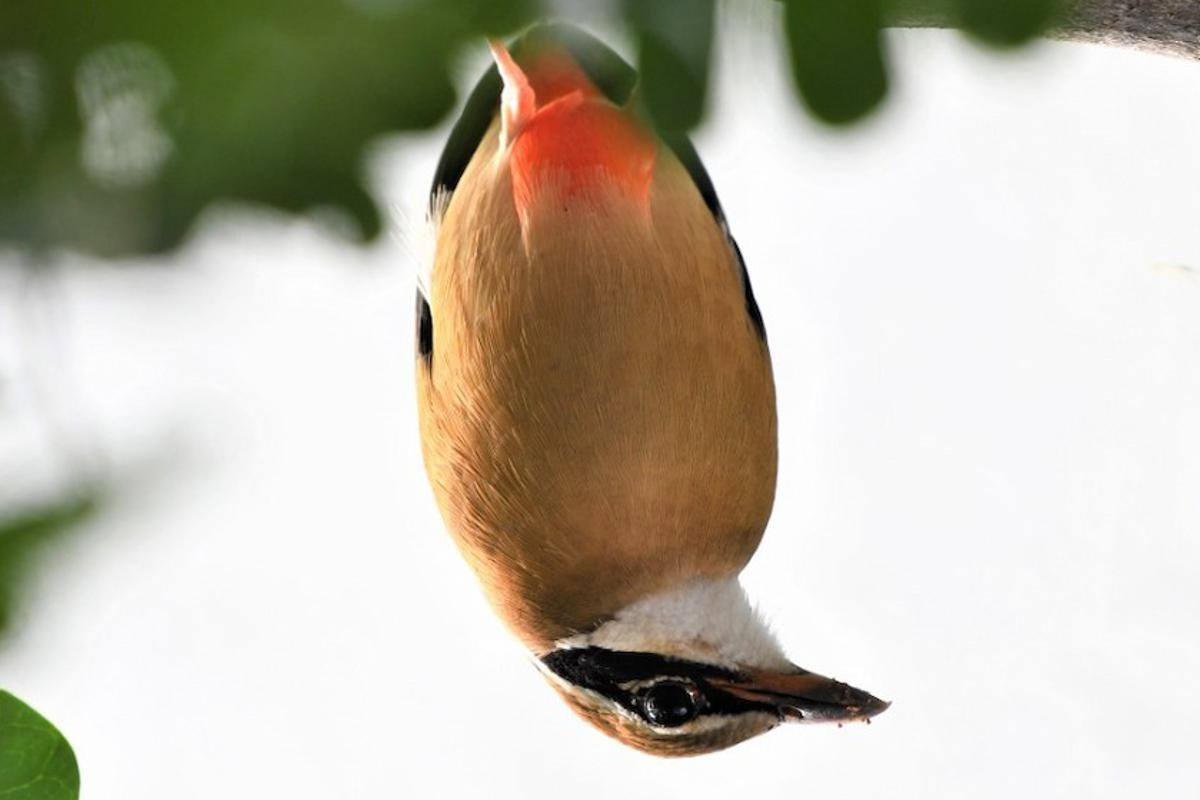pitta: (331, 46, 919, 767)
